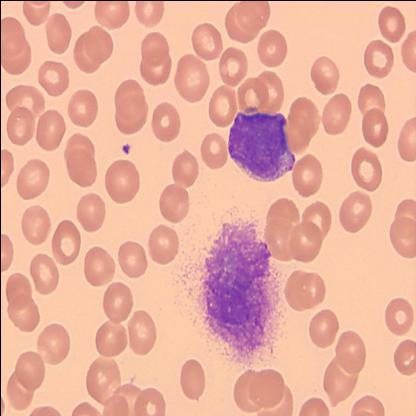Promyelocyte: (226, 110, 296, 182)
